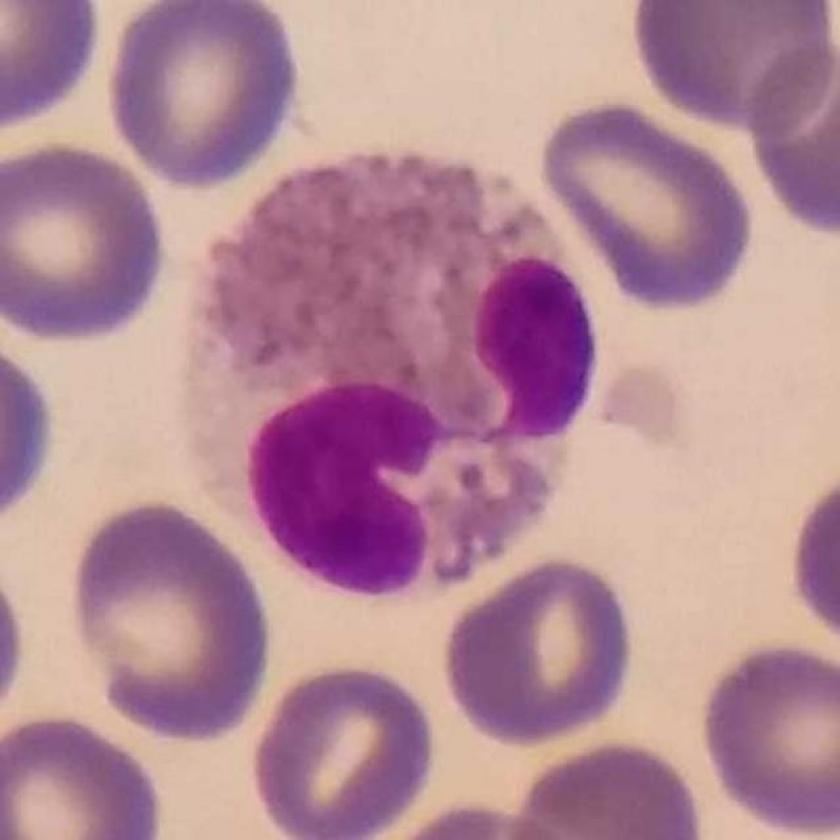eosinophil: (166, 141, 605, 593)
